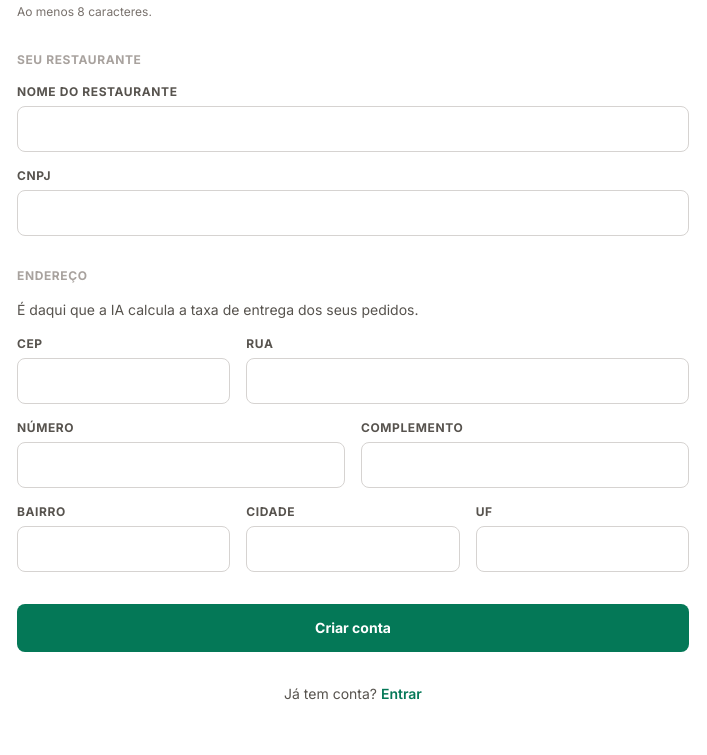
Test case: Cadastro › avisa quando o endereço do CEP diverge do que foi digitado, e some ao aplicar
The image size is (707, 755).
(page scrolled)
In the field labelled "Cidade": (353, 549) x1=246 y1=526 x2=460 y2=572, type "Rio de Janeiro"
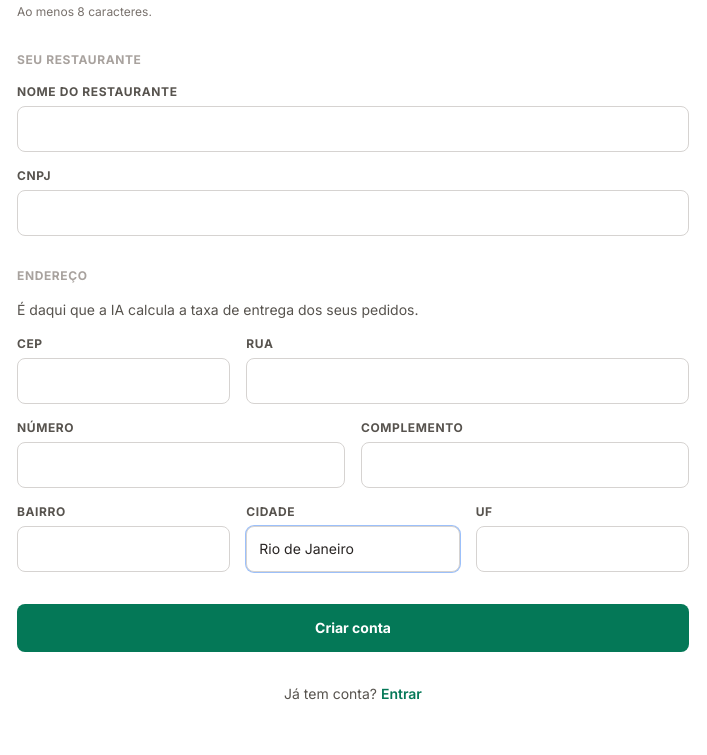
In the field labelled "CEP": (124, 381) x1=17 y1=358 x2=230 y2=404, type "01310100"
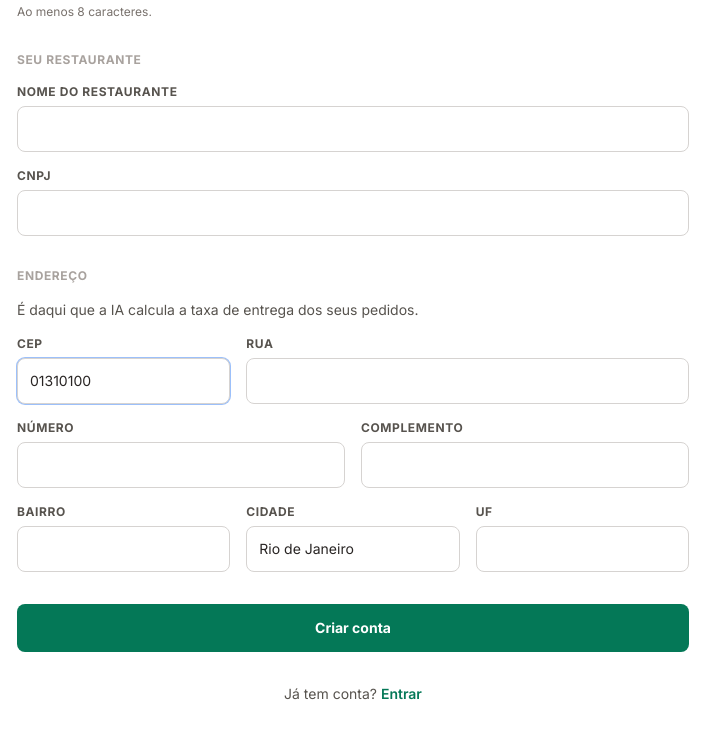
Press Tab
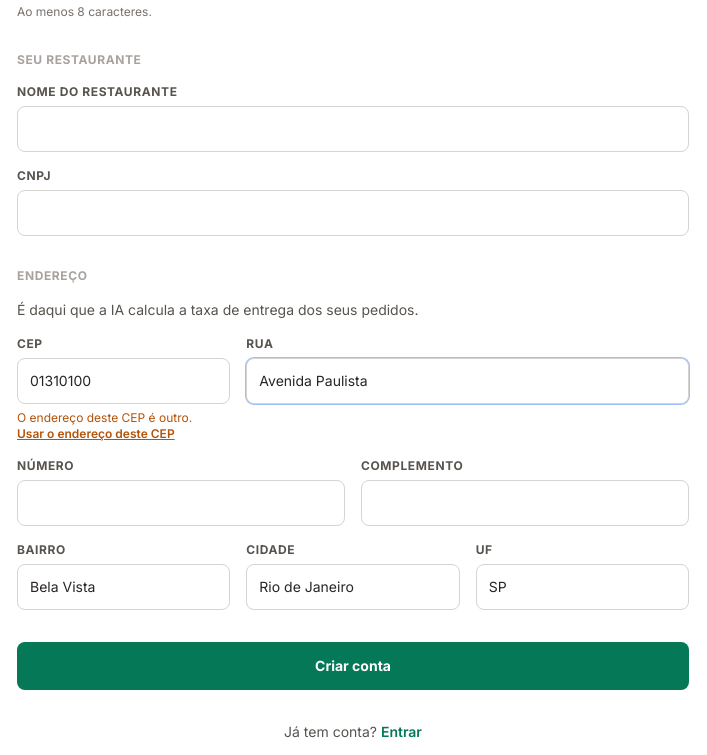
Expected: the text "O endereço deste CEP é outro. Usar o endereço deste CEP" is shown, x1=17 y1=410 x2=192 y2=442
Click the button "Usar o endereço deste CEP": (96, 434) x1=17 y1=426 x2=175 y2=442
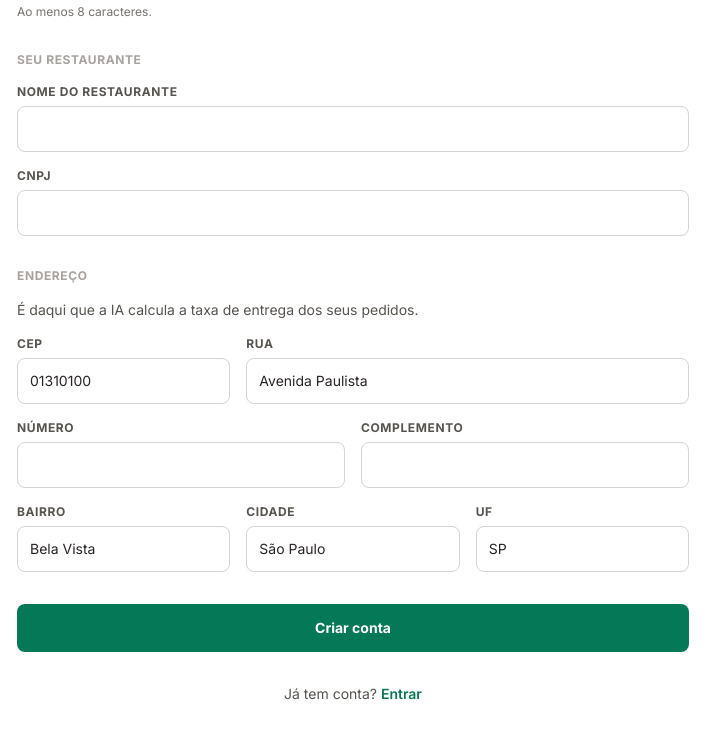
Expected: the field labelled "Cidade" holds "São Paulo", x1=246 y1=526 x2=460 y2=572
Expected: the text "endereço deste CEP é outro" is gone
